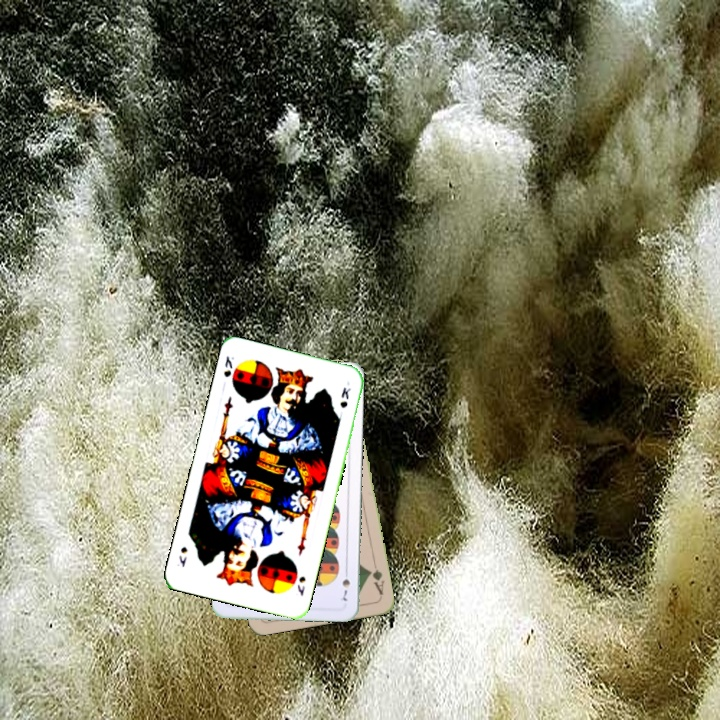GA: (365, 565, 387, 597)
S7: (338, 565, 352, 604)
SK: (220, 352, 237, 379), (293, 572, 308, 598)
